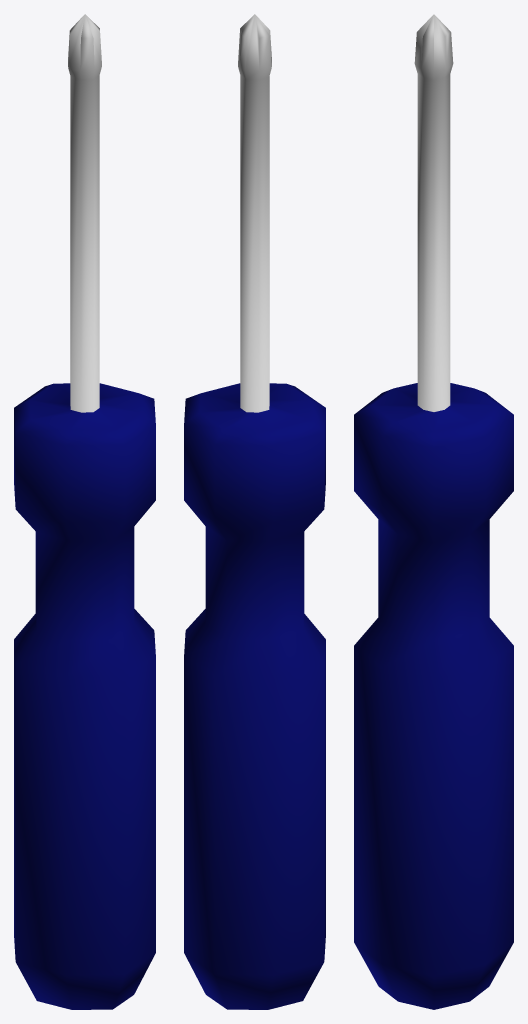
Rendered from Phillips.obj.
The picture shows the model from 3 angles, left to right: view 1: azimuth 30°, elevation 25°; view 2: azimuth 150°, elevation 25°; view 3: azimuth 270°, elevation 25°; orthographic projection.
Parts seen in each view (by area): view 1: polySurface1 toolsFBXASC046screwdrivers; view 2: polySurface1 toolsFBXASC046screwdrivers; view 3: polySurface1 toolsFBXASC046screwdrivers.
Part boxes in pixels (left/top/right/bottom): polySurface1 toolsFBXASC046screwdrivers: left=14, top=14, right=155, bottom=1009; polySurface1 toolsFBXASC046screwdrivers: left=184, top=14, right=325, bottom=1009; polySurface1 toolsFBXASC046screwdrivers: left=354, top=14, right=513, bottom=1009.
Bounding box in the file's own units: 7.83 × 52.62 × 7.83.
